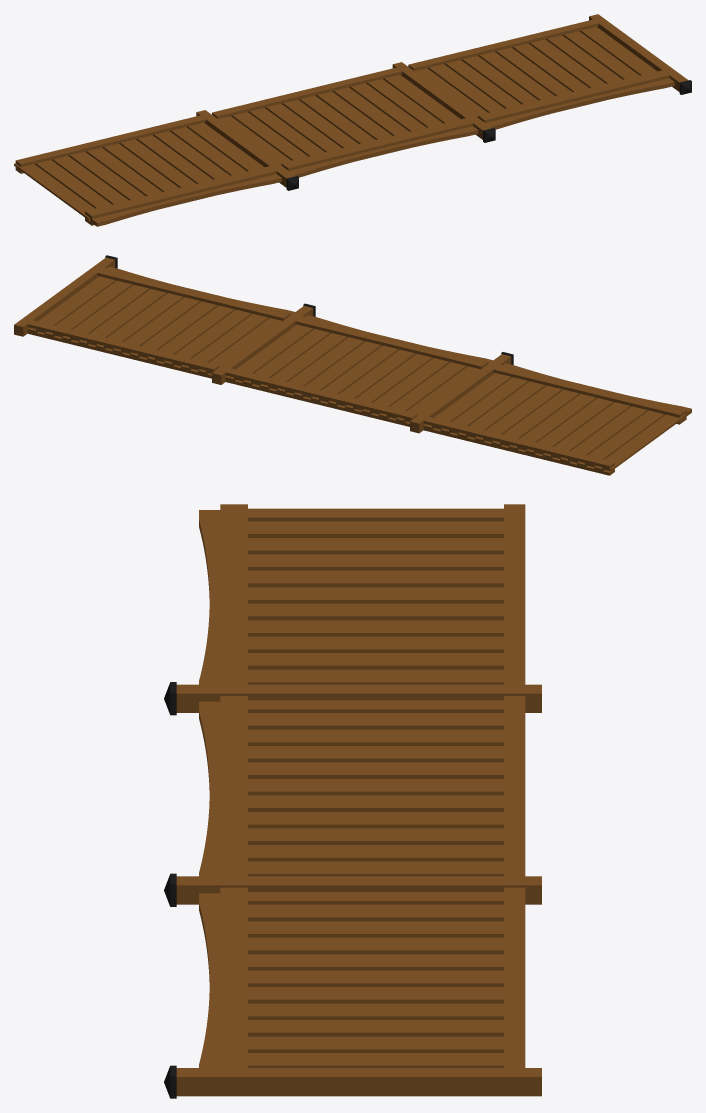
Rendered from fences.obj.
The picture shows the model from 3 angles, top to bottom: view 1: azimuth 30°, elevation 25°; view 2: azimuth 150°, elevation 25°; view 3: azimuth 270°, elevation 25°; orthographic projection. The views are drawn at different scales.
Visible parts, largest first — view 1: Body1:27, Body1:87, Body1:57, Body1:29, Body1:59, Body1:89, Body1:61, Body1:1, Body1:31, Body1:28, Body1:58, Body1:88 (+69 smaller); view 2: Body1:28, Body1:27, Body1:57, Body1:88, Body1:87, Body1:58, Body1:31, Body1:1, Body1:61, Body1:4, Body1:25, Body1:34 (+69 smaller); view 3: Body1:61, Body1:1, Body1:31, Body1:27, Body1:28, Body1:57, Body1:58, Body1:87, Body1:88, Body1:16, Body1:19, Body1:21 (+66 smaller).
Part boxes in pixels (box(x1,y1,x2,y2)): Body1:27: box(15, 115, 205, 166); Body1:87: box(408, 19, 598, 70); Body1:57: box(212, 67, 401, 118); Body1:29: box(92, 174, 281, 226); Body1:59: box(289, 126, 478, 177); Body1:89: box(485, 78, 674, 129); Body1:61: box(589, 14, 688, 91); Body1:1: box(196, 110, 295, 187); Body1:31: box(392, 62, 491, 139); Body1:28: box(85, 166, 274, 217); Body1:58: box(281, 118, 470, 168); Body1:88: box(477, 70, 667, 120); Body1:28: box(493, 365, 684, 417); Body1:27: box(423, 417, 614, 468); Body1:57: box(225, 368, 416, 420); Body1:88: box(97, 269, 288, 320); Body1:87: box(27, 320, 219, 371); Body1:58: box(295, 317, 486, 369); Body1:31: box(212, 306, 313, 384); Body1:1: box(410, 354, 511, 433); Body1:61: box(14, 257, 115, 336); Body1:4: box(423, 427, 614, 475); Body1:25: box(602, 414, 686, 471); Body1:34: box(225, 379, 409, 426); Body1:61: box(176, 1068, 541, 1096); Body1:1: box(176, 684, 541, 712); Body1:31: box(176, 876, 541, 904); Body1:27: box(504, 504, 525, 684); Body1:28: box(226, 504, 247, 684); Body1:57: box(504, 696, 525, 876); Body1:58: box(226, 696, 247, 876); Body1:87: box(504, 887, 525, 1067); Body1:88: box(226, 887, 247, 1067); Body1:16: box(248, 656, 503, 669); Body1:19: box(248, 607, 503, 620); Body1:21: box(248, 574, 503, 587).
Size of the model in its own units: 810 by 14.9 by 225.
